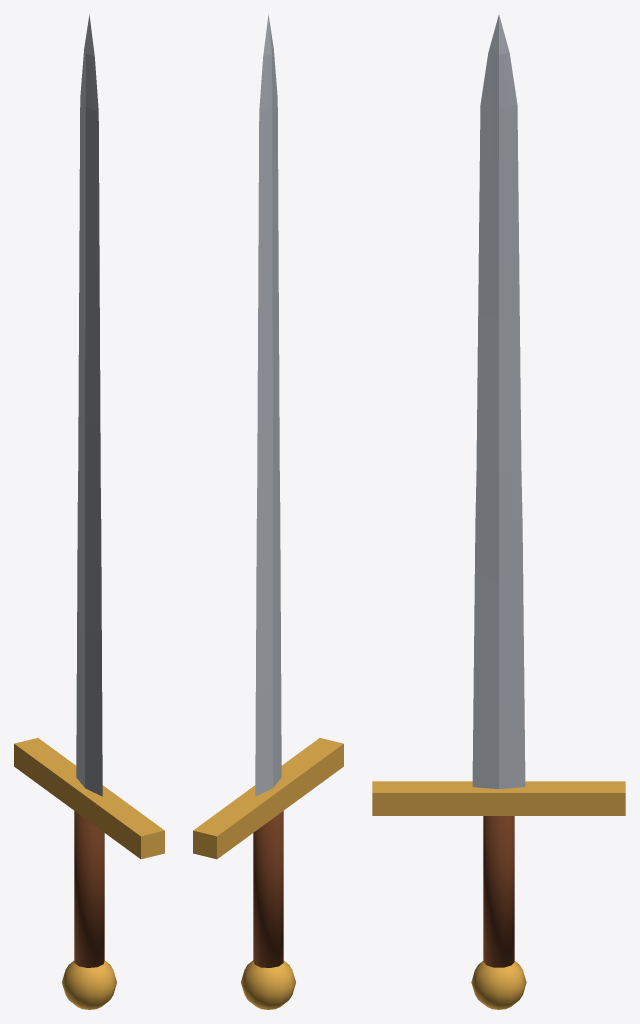
File: sword.glb
The picture shows the model from 3 angles, left to right: view 1: azimuth 30°, elevation 25°; view 2: azimuth 150°, elevation 25°; view 3: azimuth 270°, elevation 25°; orthographic projection.
Visible parts, largest first — view 1: sword; view 2: sword; view 3: sword.
Part boxes in pixels (left/top/right/bottom): sword: left=14, top=14, right=164, bottom=1009; sword: left=193, top=14, right=343, bottom=1009; sword: left=372, top=15, right=625, bottom=1009.
Size of the model in its own units: 0.0479 by 0.9512 by 0.22.
